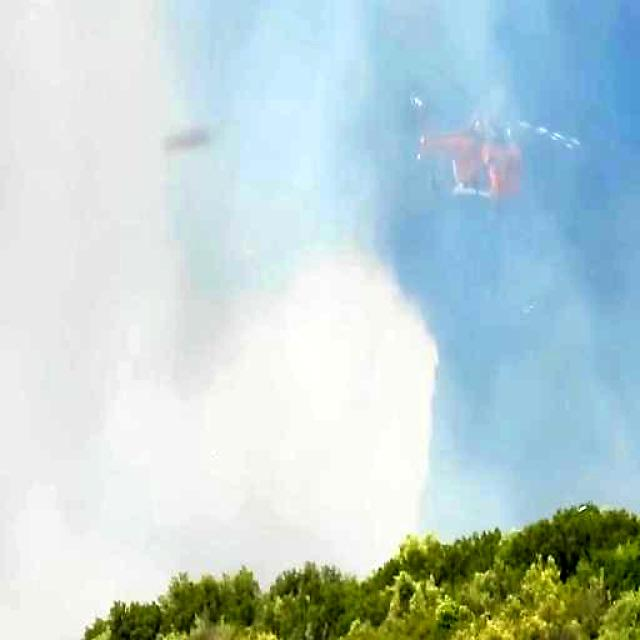drone: (401, 46, 584, 219)
